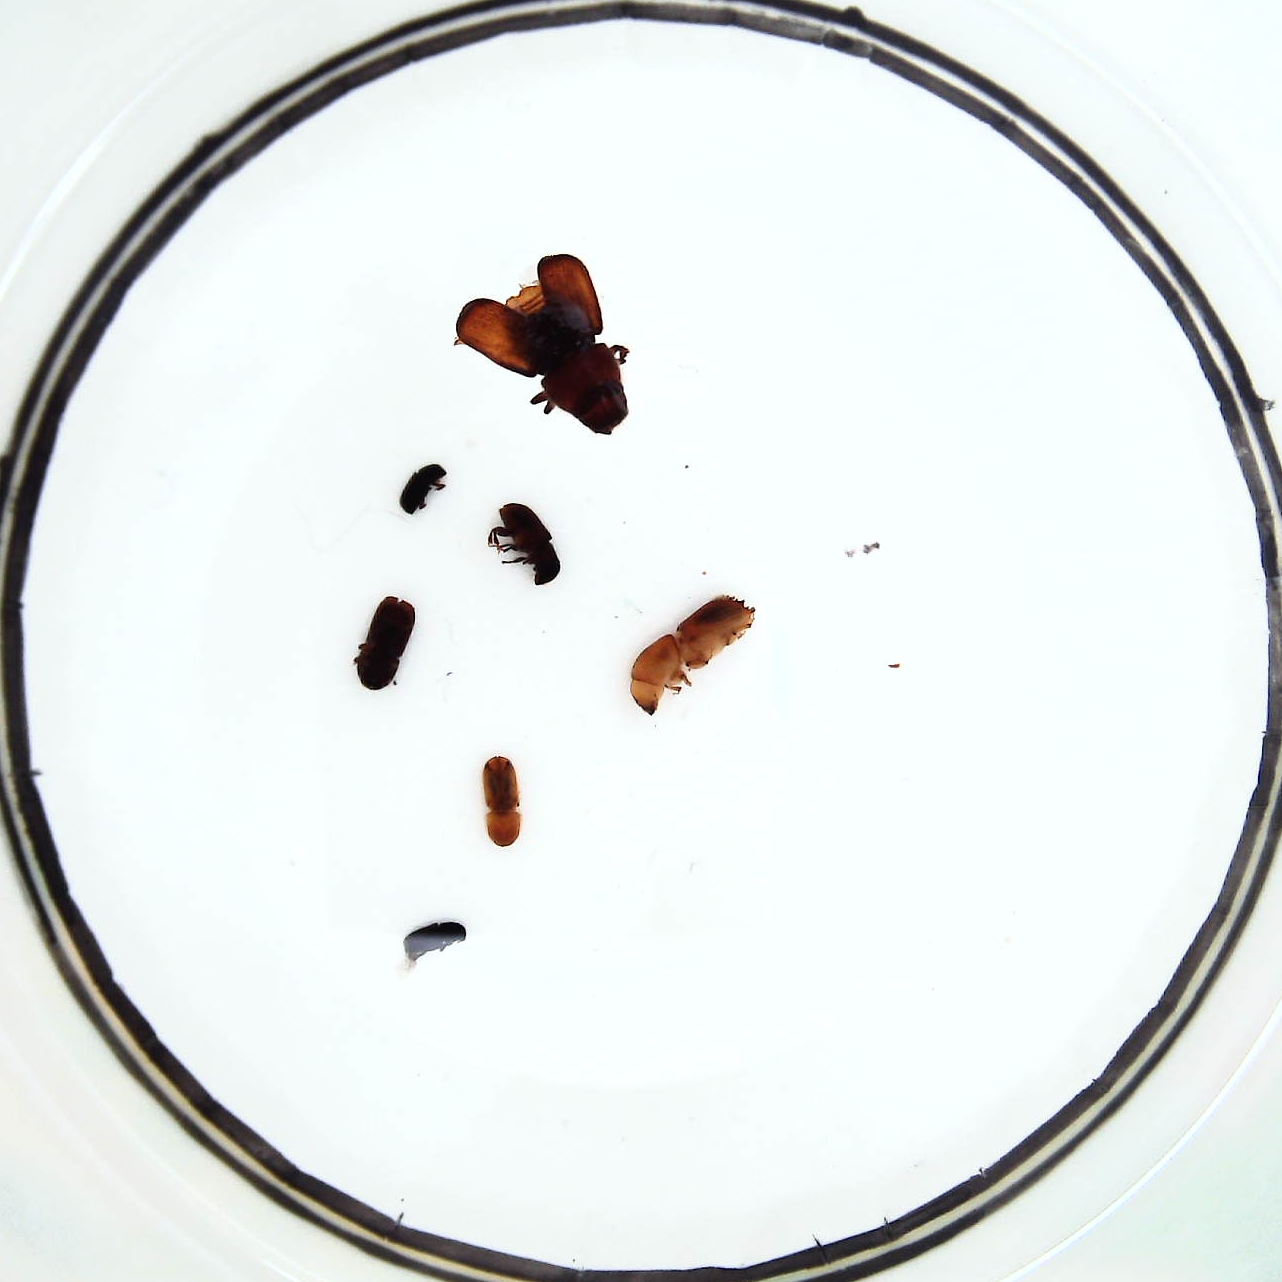Boerner: (628, 591, 754, 718)
Leconte: (454, 255, 629, 438)
Linnaeus: (356, 595, 416, 691)
acuminatus: (481, 758, 528, 850)
armandi: (490, 502, 559, 586)
coleoptera: (399, 464, 448, 517), (404, 922, 468, 961)
